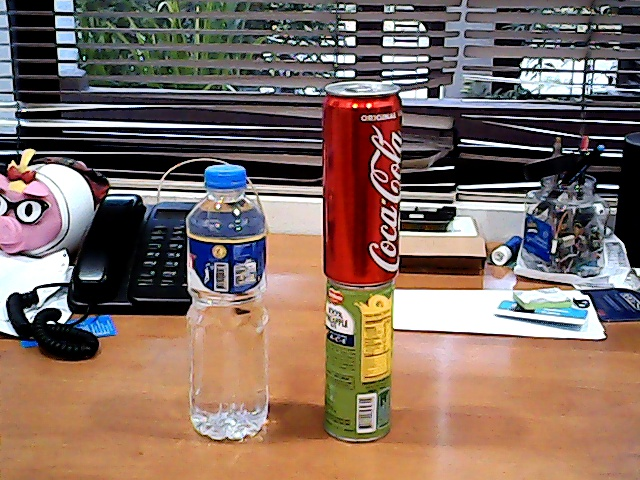Cola: (315, 77, 404, 284)
Pine Juice: (320, 281, 404, 443)
Summit Water: (172, 156, 289, 444)
